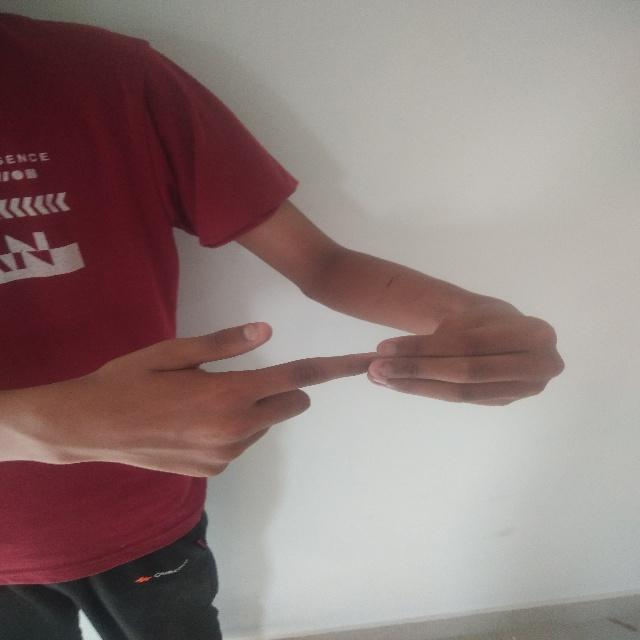Five Fathers: (64, 311, 570, 490)
